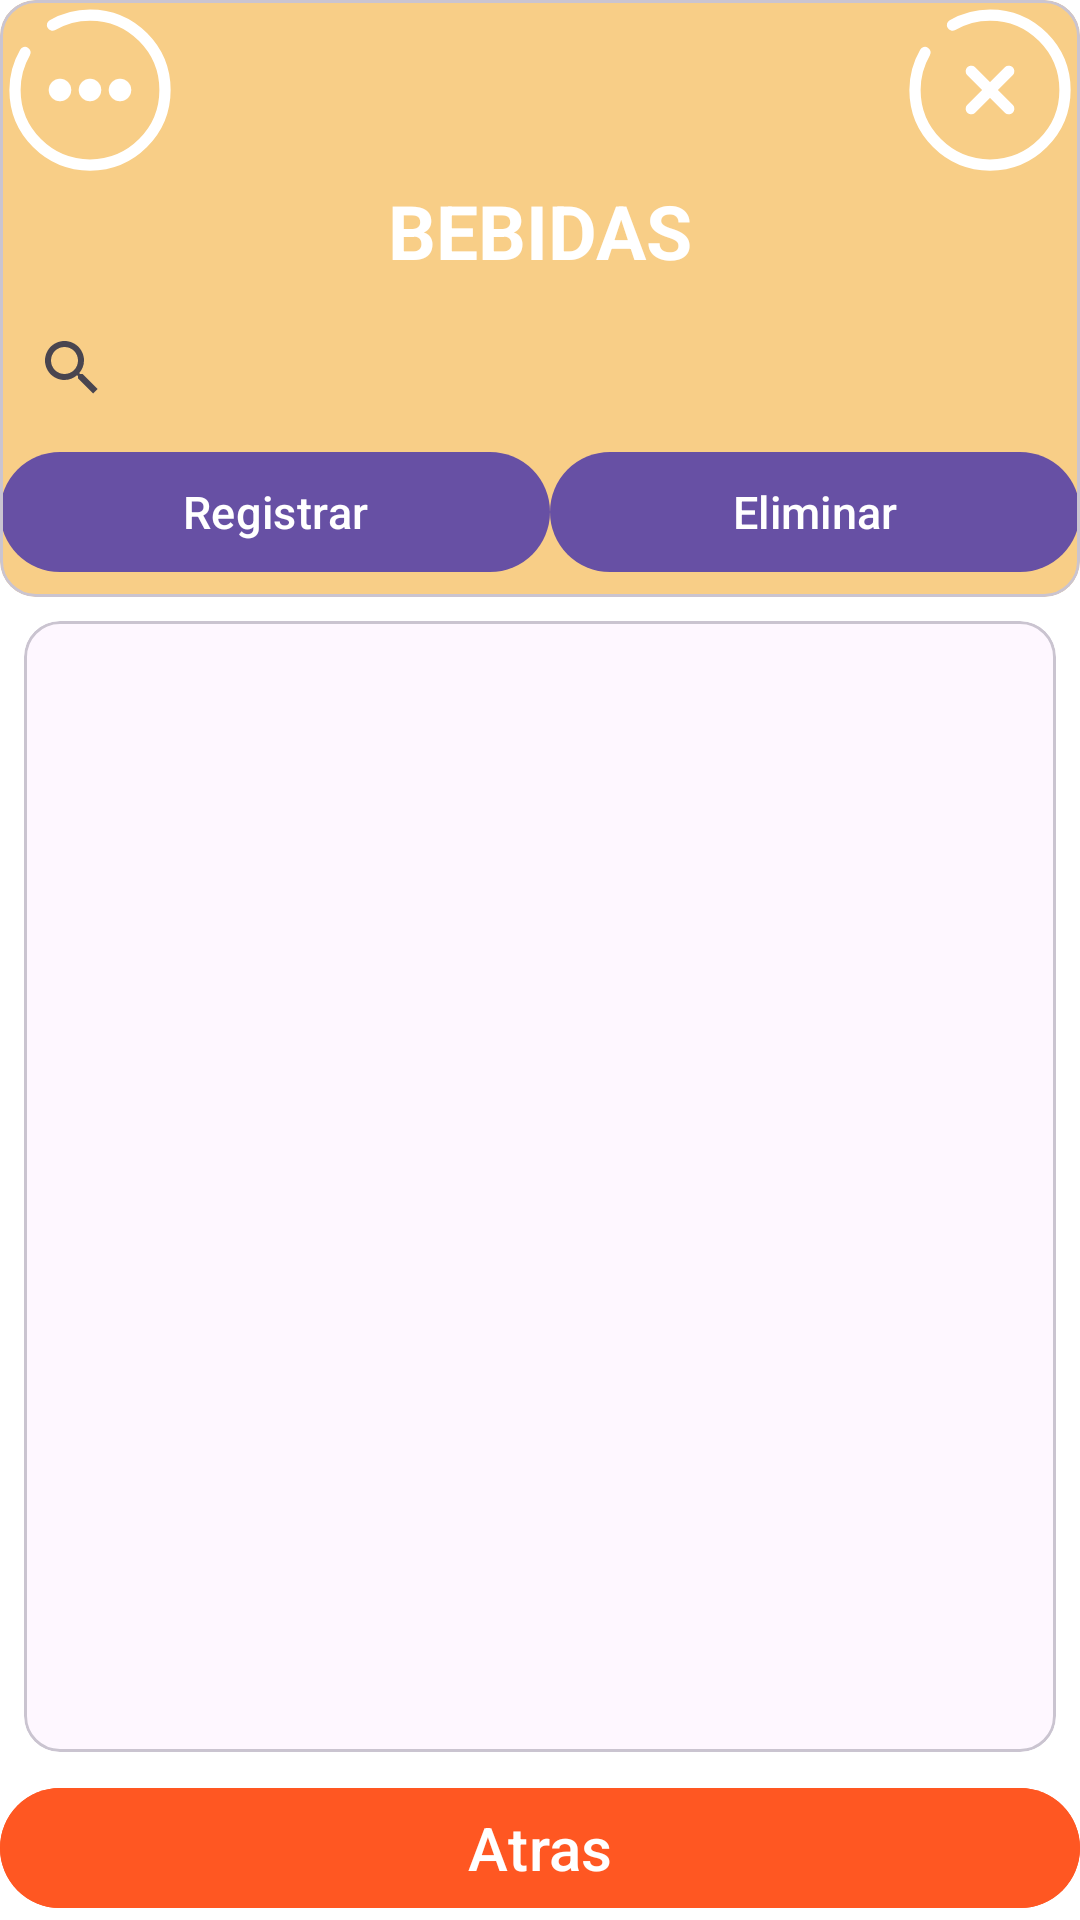

Locate icon controls on the screen. Image size 1080w x 1920h, boxes as [x1, y1, x2, y2].
close: [909, 9, 1071, 171]
menu: [9, 9, 171, 171]
